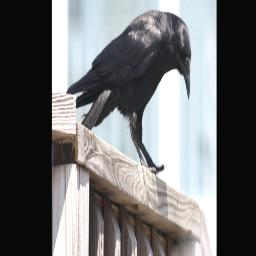Crow: (65, 8, 192, 174)
